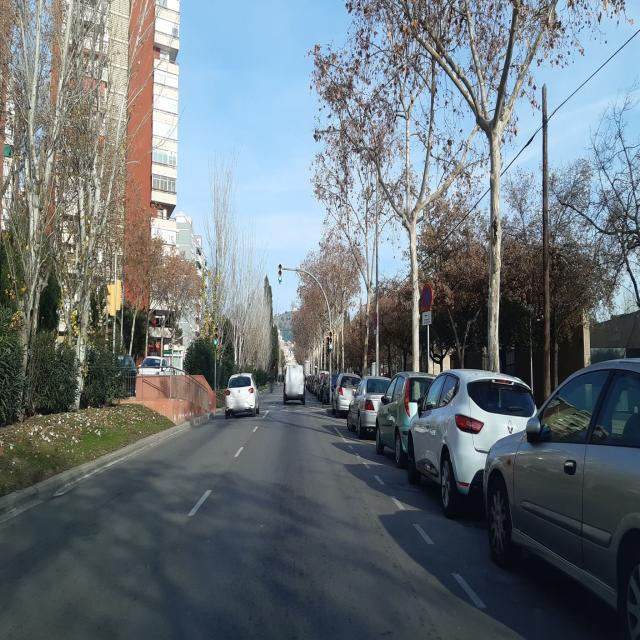forb_stopping: (374, 311, 378, 330)
forb_waiting: (421, 286, 431, 308)
